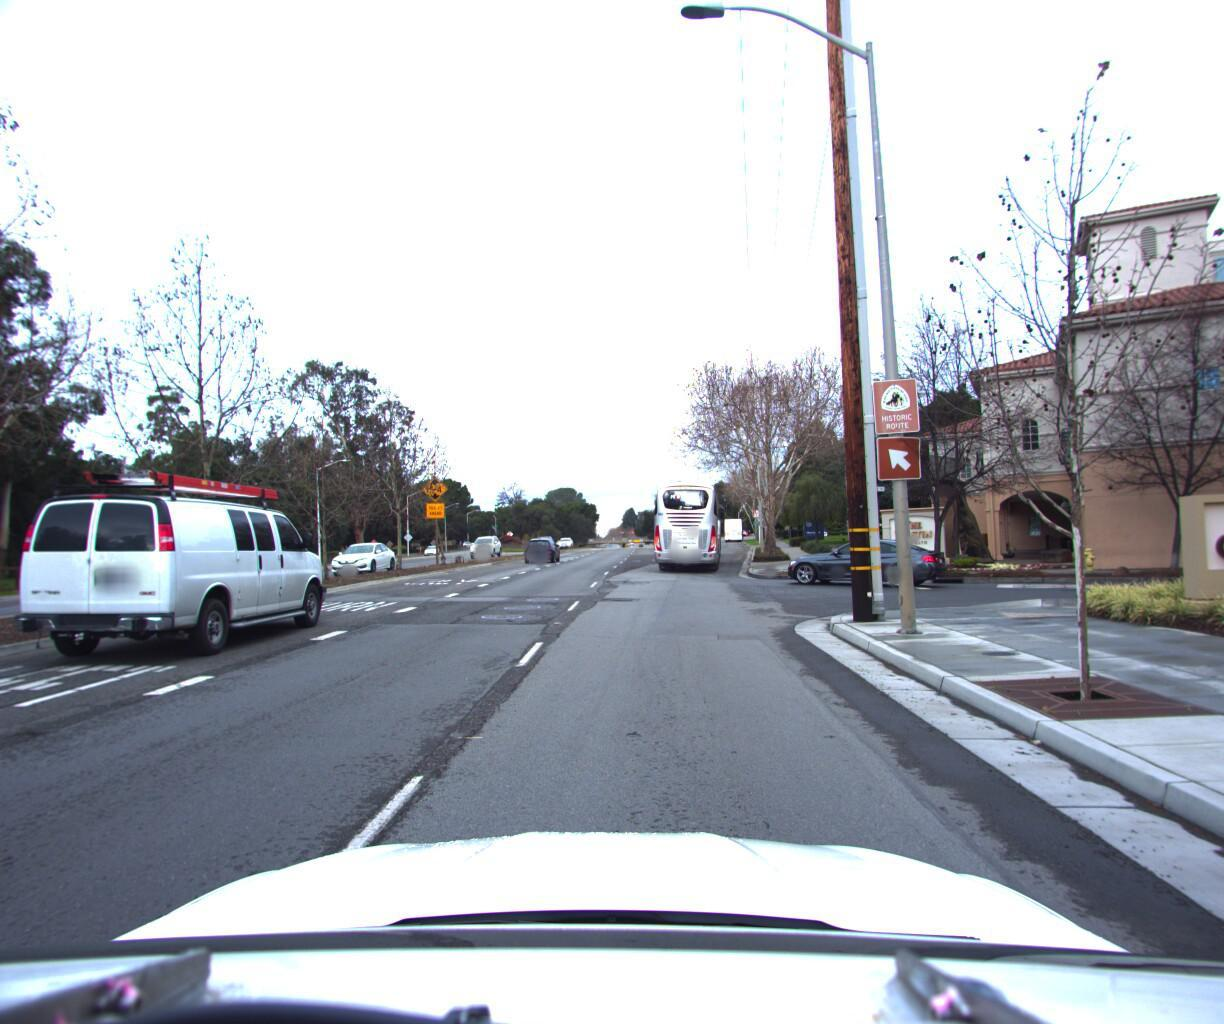bus: (645, 468, 728, 570)
car: (0, 455, 341, 672), (775, 526, 958, 584), (323, 534, 402, 574), (467, 528, 506, 554), (523, 530, 560, 557)
